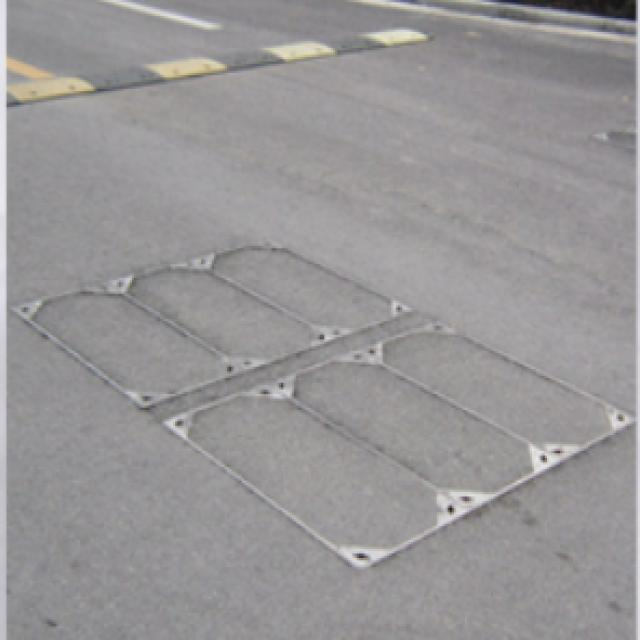manhole: (12, 247, 632, 571)
